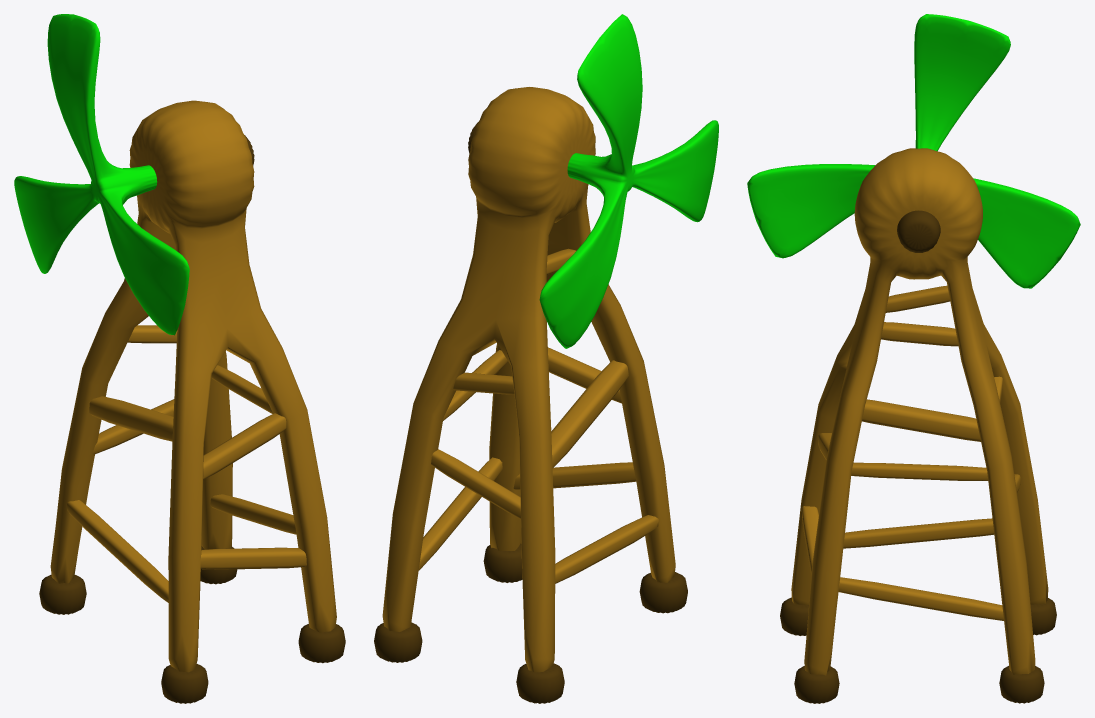
Rendered from WindMill Animated Fixed.fbx.
3 views of the same model, side by side, from view 1: azimuth 30°, elevation 25°; view 2: azimuth 150°, elevation 25°; view 3: azimuth 270°, elevation 25° (orthographic). The views are drawn at different scales.
Parts seen in each view (by area): view 1: polySurface5, polySurface4; view 2: polySurface5, polySurface4; view 3: polySurface5, polySurface4.
Boxes of the visible parts, box(x1,y1,x2,y2) form: polySurface5: box(39, 100, 345, 703); polySurface4: box(14, 14, 189, 335); polySurface5: box(374, 87, 687, 703); polySurface4: box(539, 14, 718, 348); polySurface5: box(780, 148, 1056, 703); polySurface4: box(747, 14, 1080, 288).
Bounding box in the file's own units: 1.27 × 3.75 × 1.87.
